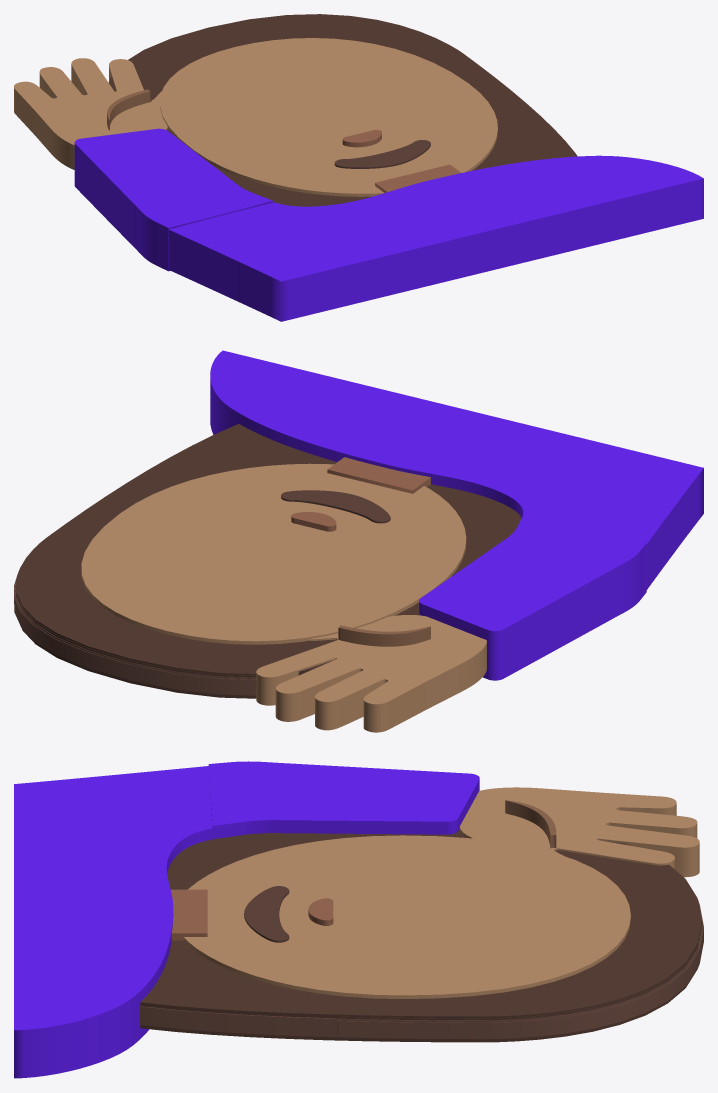
Rendered from emoji_u1f64b_1f3fd_200d_2640.glb.
The picture shows the model from 3 angles, top to bottom: view 1: azimuth 30°, elevation 25°; view 2: azimuth 150°, elevation 25°; view 3: azimuth 270°, elevation 25°; orthographic projection. The views are drawn at different scales.
Visible parts, largest first — view 1: emoji_u1f64b_1f3fd_200d_2640; view 2: emoji_u1f64b_1f3fd_200d_2640; view 3: emoji_u1f64b_1f3fd_200d_2640.
Boxes of the visible parts, left/top/right/bottom form: emoji_u1f64b_1f3fd_200d_2640: left=14, top=14, right=703, bottom=321; emoji_u1f64b_1f3fd_200d_2640: left=14, top=350, right=703, bottom=732; emoji_u1f64b_1f3fd_200d_2640: left=14, top=761, right=703, bottom=1078.
Bounding box in the file's own units: 0.031 × 0.003 × 0.0338.
